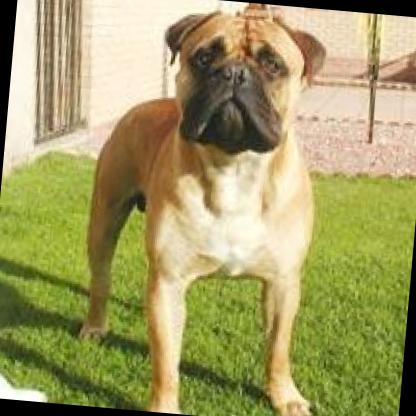bull_mastiff: (59, 0, 360, 416)
